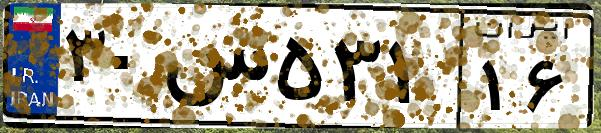0: (110, 28, 158, 98)
1: (385, 28, 445, 110), (475, 38, 525, 113)
3: (330, 28, 385, 110), (57, 26, 110, 100)
5: (270, 28, 330, 110)
6: (525, 38, 570, 115)
س: (158, 20, 270, 120)
